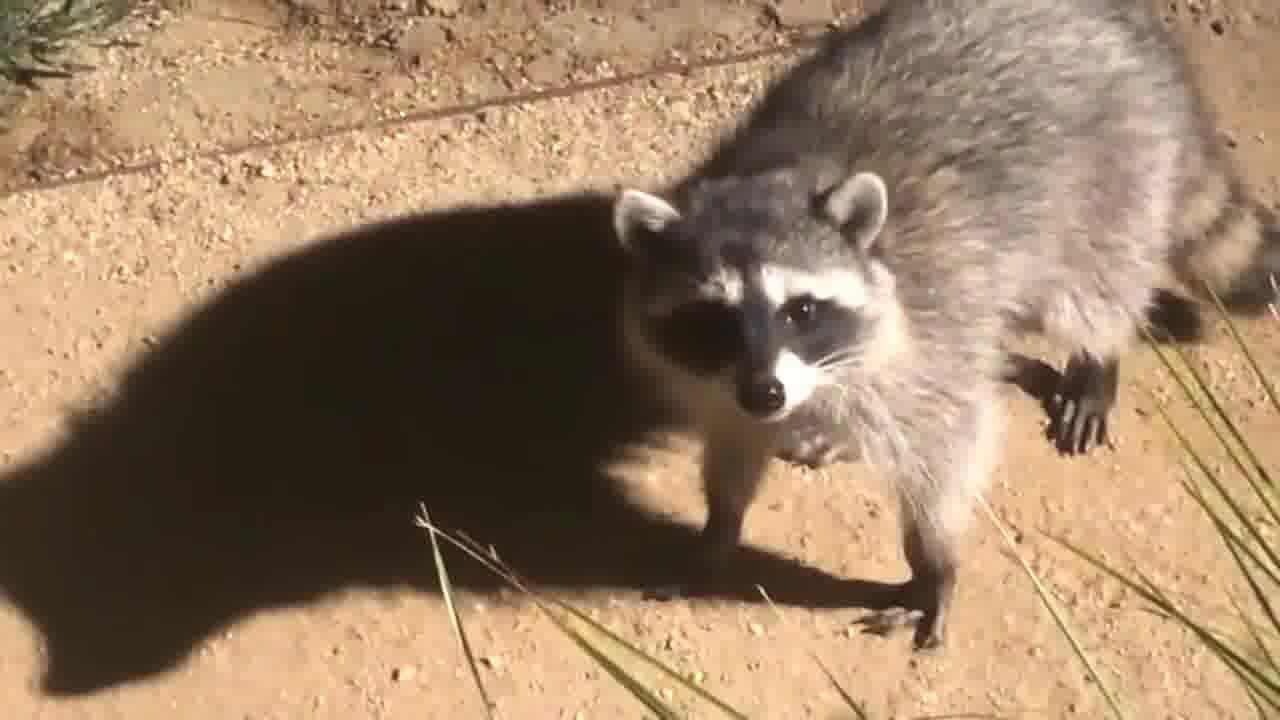raccoon: (612, 0, 1280, 652)
